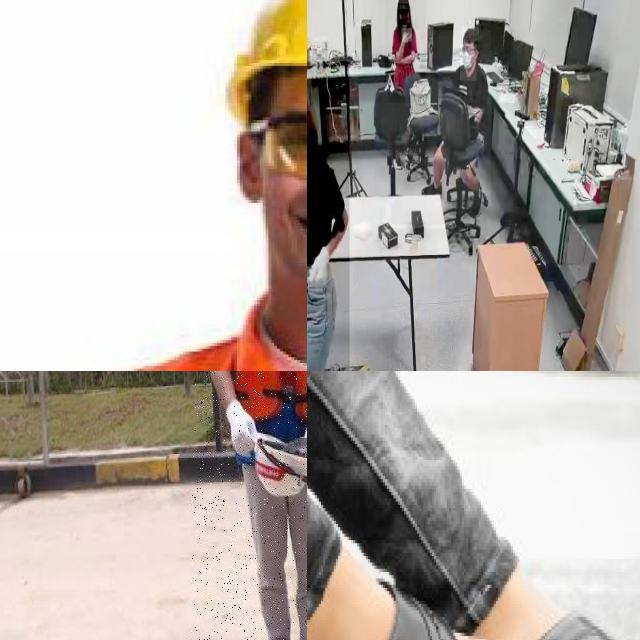No_Ear-Protection: (229, 128, 264, 211)
Sandals: (307, 568, 545, 640)
face_mask: (460, 44, 476, 81)
face_nomask: (264, 177, 307, 276), (397, 8, 409, 26)
glasses: (250, 114, 307, 180)
hand_glove: (307, 246, 333, 303)
hand_noglove: (402, 28, 412, 42)
head_helmet: (228, 0, 307, 123), (255, 430, 307, 498)
head_nohelmet: (462, 26, 480, 42), (396, 0, 409, 4)
person: (191, 371, 307, 640), (428, 30, 492, 210), (384, 0, 425, 104)
vest: (230, 371, 307, 465)
